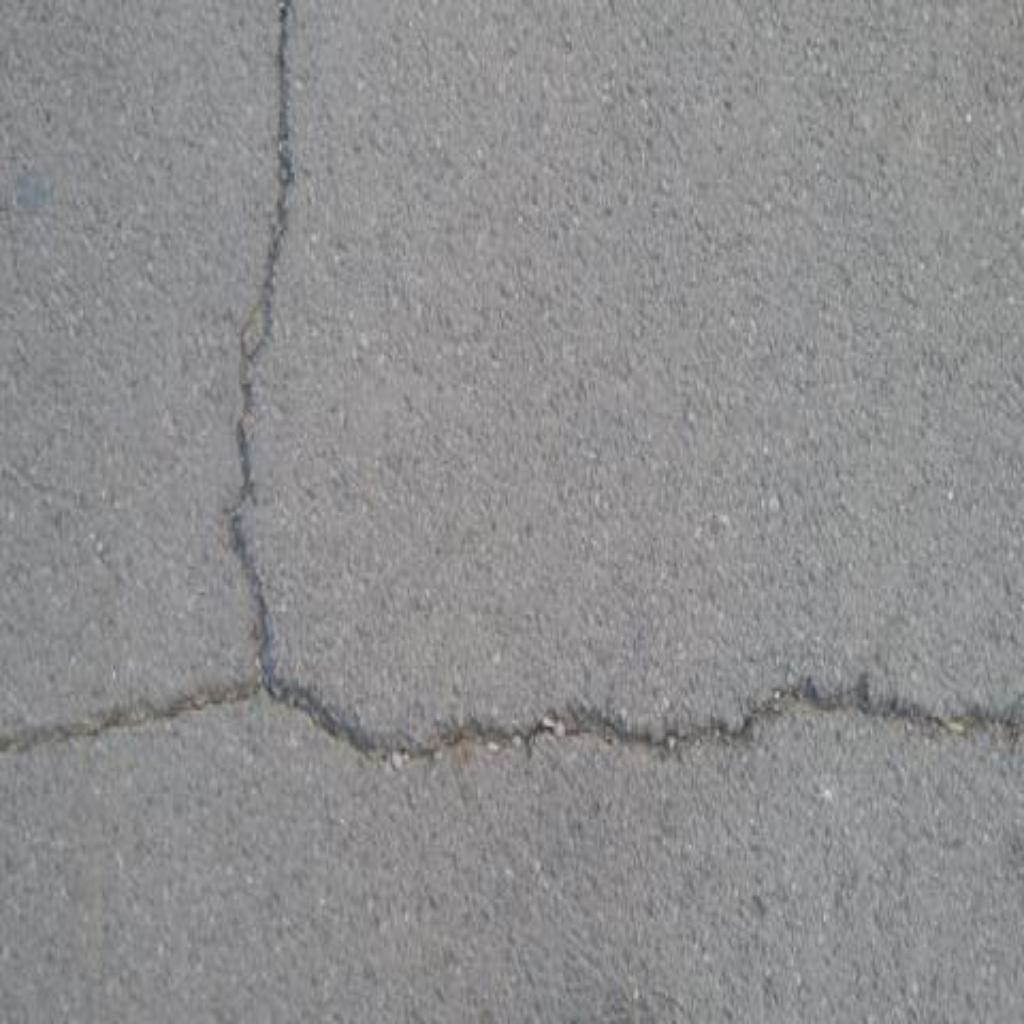Crack: (1, 675, 1024, 766), (224, 1, 294, 675)
